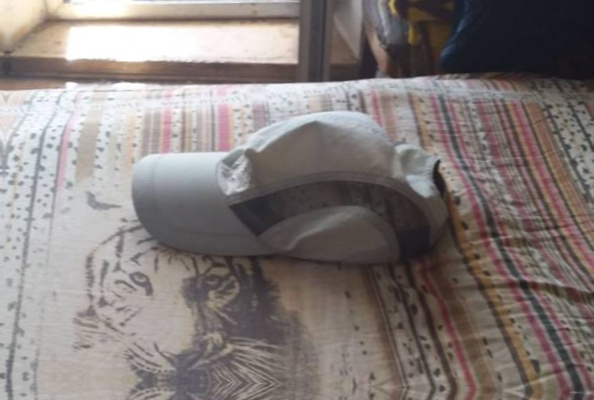Hat: (96, 84, 476, 286)
